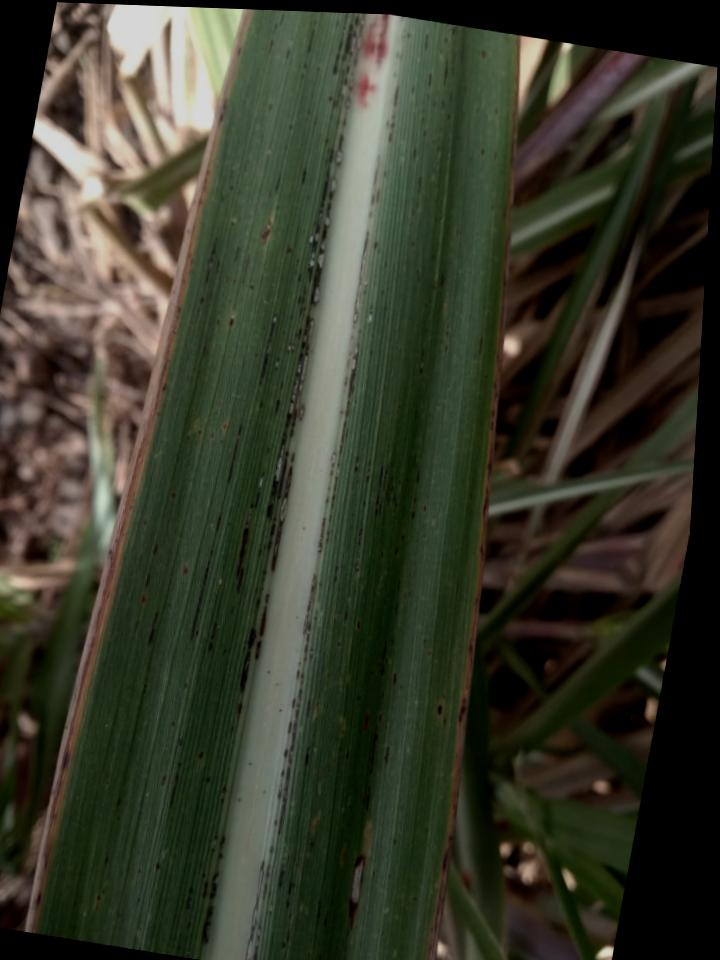RedRot: (362, 14, 391, 70), (354, 71, 382, 115)
Rust: (327, 13, 366, 202), (330, 13, 360, 112), (306, 202, 332, 306), (373, 457, 399, 526), (258, 313, 279, 387), (203, 236, 219, 287), (353, 264, 364, 326), (303, 19, 318, 58), (319, 165, 331, 209), (240, 253, 251, 288), (296, 286, 308, 317), (442, 321, 451, 355), (416, 348, 426, 376), (441, 57, 449, 87), (323, 146, 335, 166), (218, 98, 227, 124), (425, 71, 435, 94), (385, 121, 395, 144), (414, 175, 424, 196), (273, 174, 283, 195), (231, 245, 242, 264), (271, 355, 282, 374), (362, 230, 370, 256), (300, 165, 309, 187), (449, 50, 456, 78), (266, 38, 276, 57), (291, 256, 301, 275), (215, 309, 224, 329), (225, 315, 236, 331), (392, 84, 399, 109), (277, 12, 286, 30), (422, 32, 430, 52), (477, 336, 485, 356), (293, 324, 302, 341), (371, 240, 381, 253), (214, 257, 222, 273), (372, 169, 379, 187), (283, 246, 294, 257), (367, 302, 375, 317), (439, 96, 446, 113), (283, 48, 291, 62), (420, 127, 428, 141), (282, 144, 289, 160), (478, 49, 487, 61), (409, 83, 417, 96), (266, 102, 274, 115), (270, 22, 278, 35), (420, 109, 426, 125), (491, 151, 499, 163), (454, 225, 462, 237), (286, 123, 295, 133), (448, 89, 454, 104), (362, 282, 368, 297), (411, 147, 417, 161), (474, 106, 481, 118), (479, 147, 486, 159), (439, 273, 445, 287), (198, 294, 205, 306), (322, 136, 331, 145), (301, 62, 308, 73), (248, 283, 256, 292), (442, 36, 449, 46), (304, 108, 311, 118), (446, 113, 453, 123), (227, 185, 234, 195), (381, 287, 387, 298), (296, 271, 302, 282), (375, 190, 380, 203), (415, 198, 420, 211), (326, 95, 334, 103), (450, 27, 456, 37), (409, 209, 415, 219), (382, 260, 388, 270), (382, 304, 388, 314), (315, 66, 321, 76), (298, 73, 305, 81), (409, 242, 416, 250), (437, 47, 443, 56), (493, 106, 498, 116), (406, 31, 412, 39), (370, 194, 374, 206), (430, 253, 436, 261), (415, 268, 421, 276), (274, 204, 280, 212), (436, 144, 441, 153), (368, 210, 373, 219), (303, 195, 309, 202), (334, 20, 339, 28), (382, 169, 386, 178), (335, 119, 340, 126), (357, 327, 362, 334), (281, 329, 286, 336)
